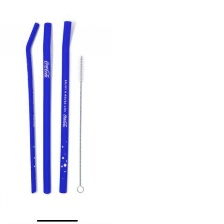drinking_straw: (56, 16, 75, 195), (22, 19, 41, 196), (39, 19, 53, 195)
